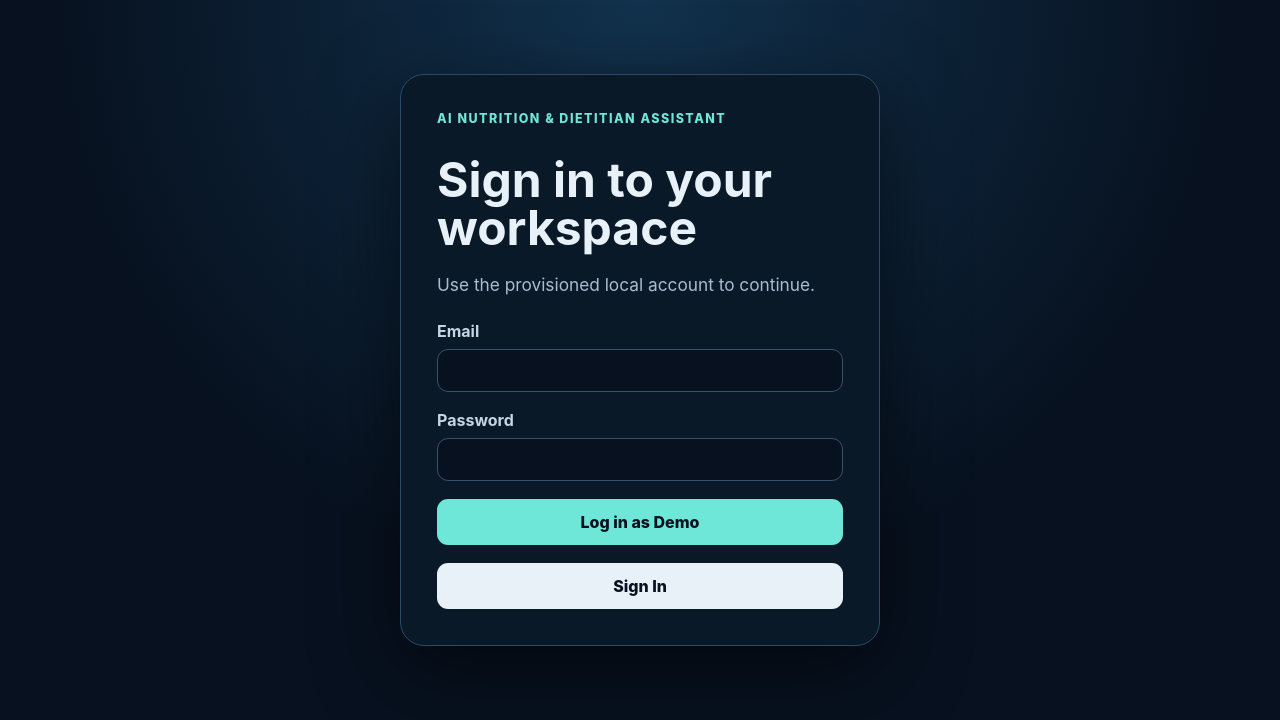
it: demo login › Log in as Demo uses the configured demo credential endpoint and opens the workspace
Click the button "Log in as Demo". click: [640, 522]
box: [437,499,843,545]
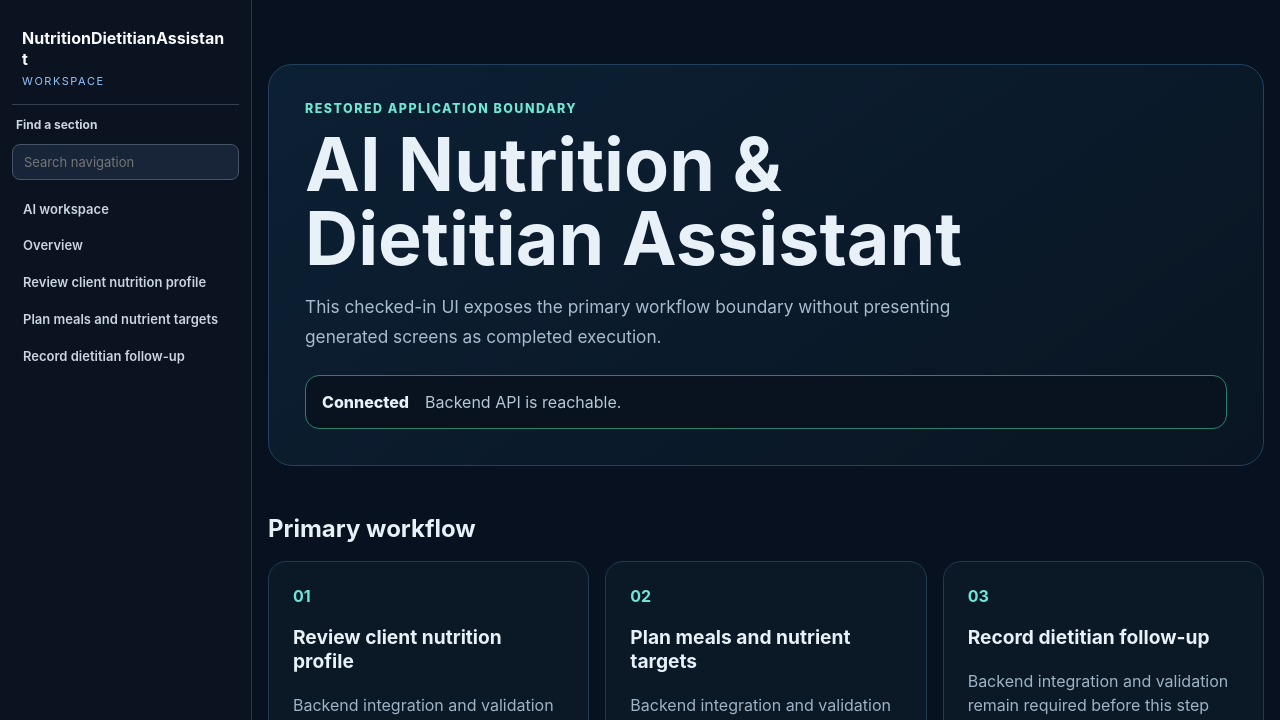
Expected: the text "AI workspace" is shown, [23,201,109,217]
